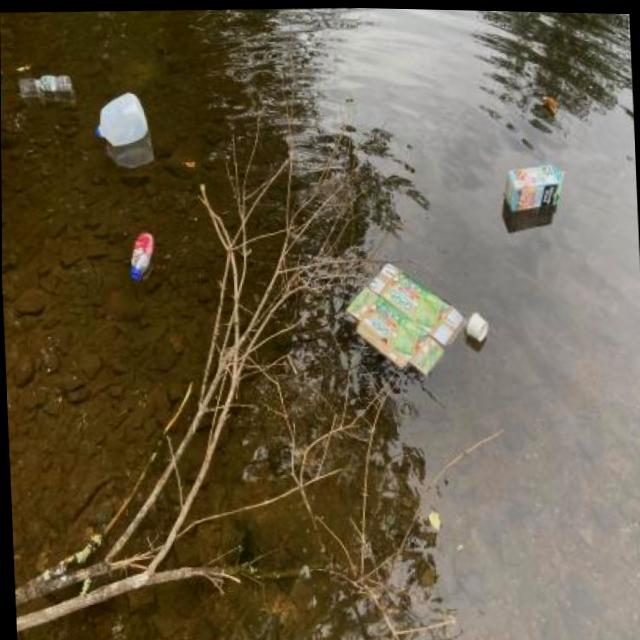Cardboard: (337, 242, 470, 387), (495, 152, 570, 220)
Paper: (460, 308, 492, 345)
Plastic: (86, 83, 153, 150), (123, 223, 159, 286), (28, 63, 75, 104)
